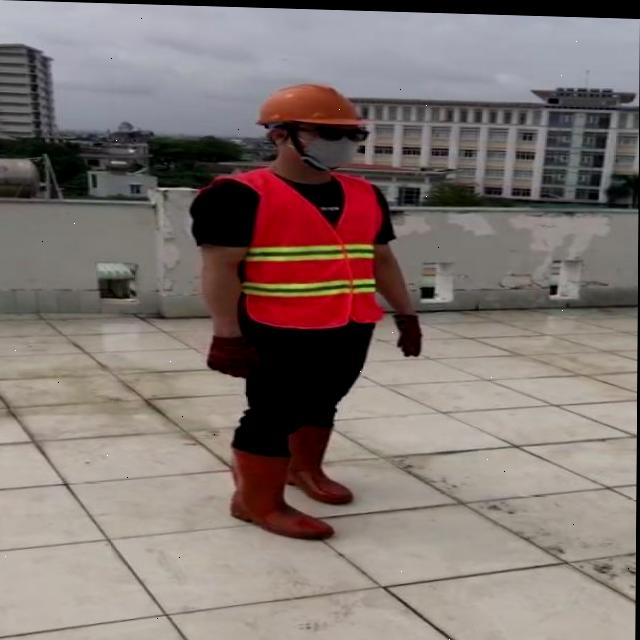Gloves: (207, 332, 263, 378), (392, 310, 423, 354)
Helmet: (254, 80, 366, 128)
Safety-Boot: (229, 442, 335, 538), (285, 420, 353, 502)
Safety-Vest: (209, 165, 391, 330)
